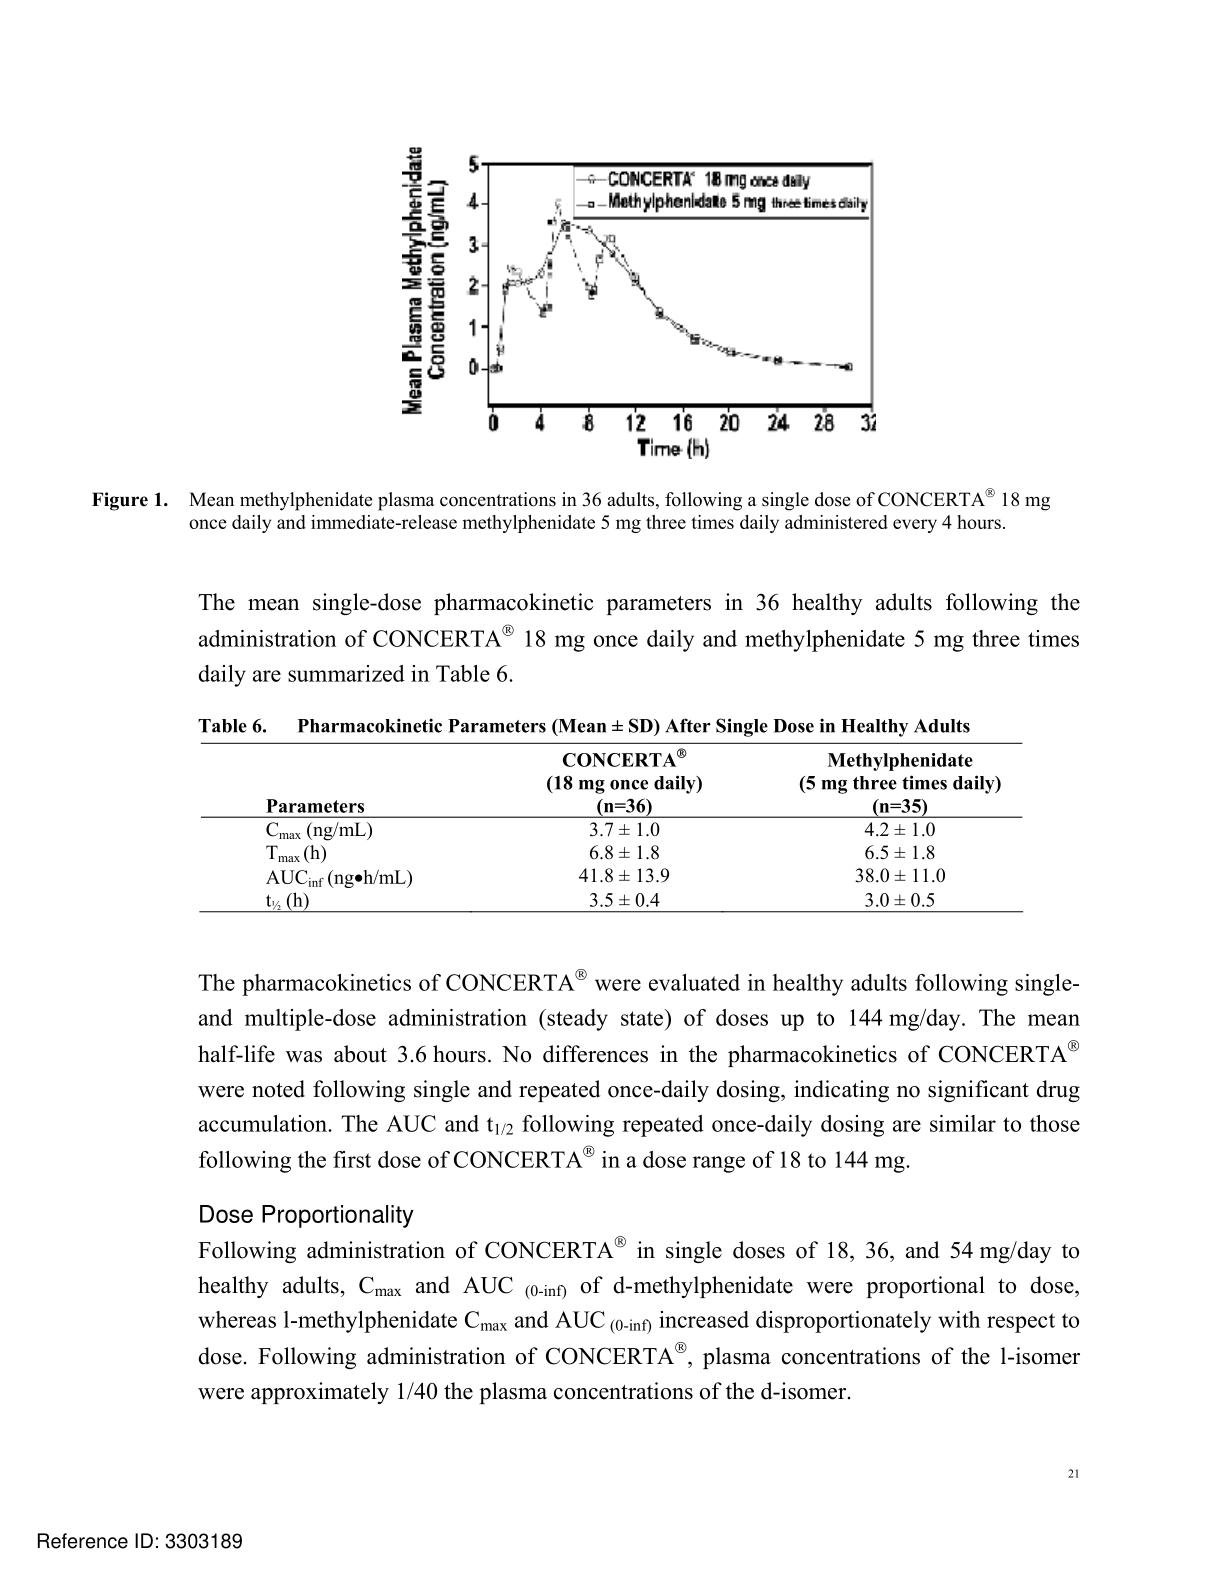partial_lined: (201, 741, 1027, 914)
